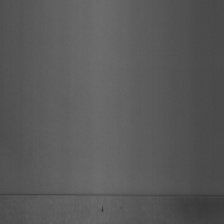rolled_pit: (1, 185, 223, 205)
